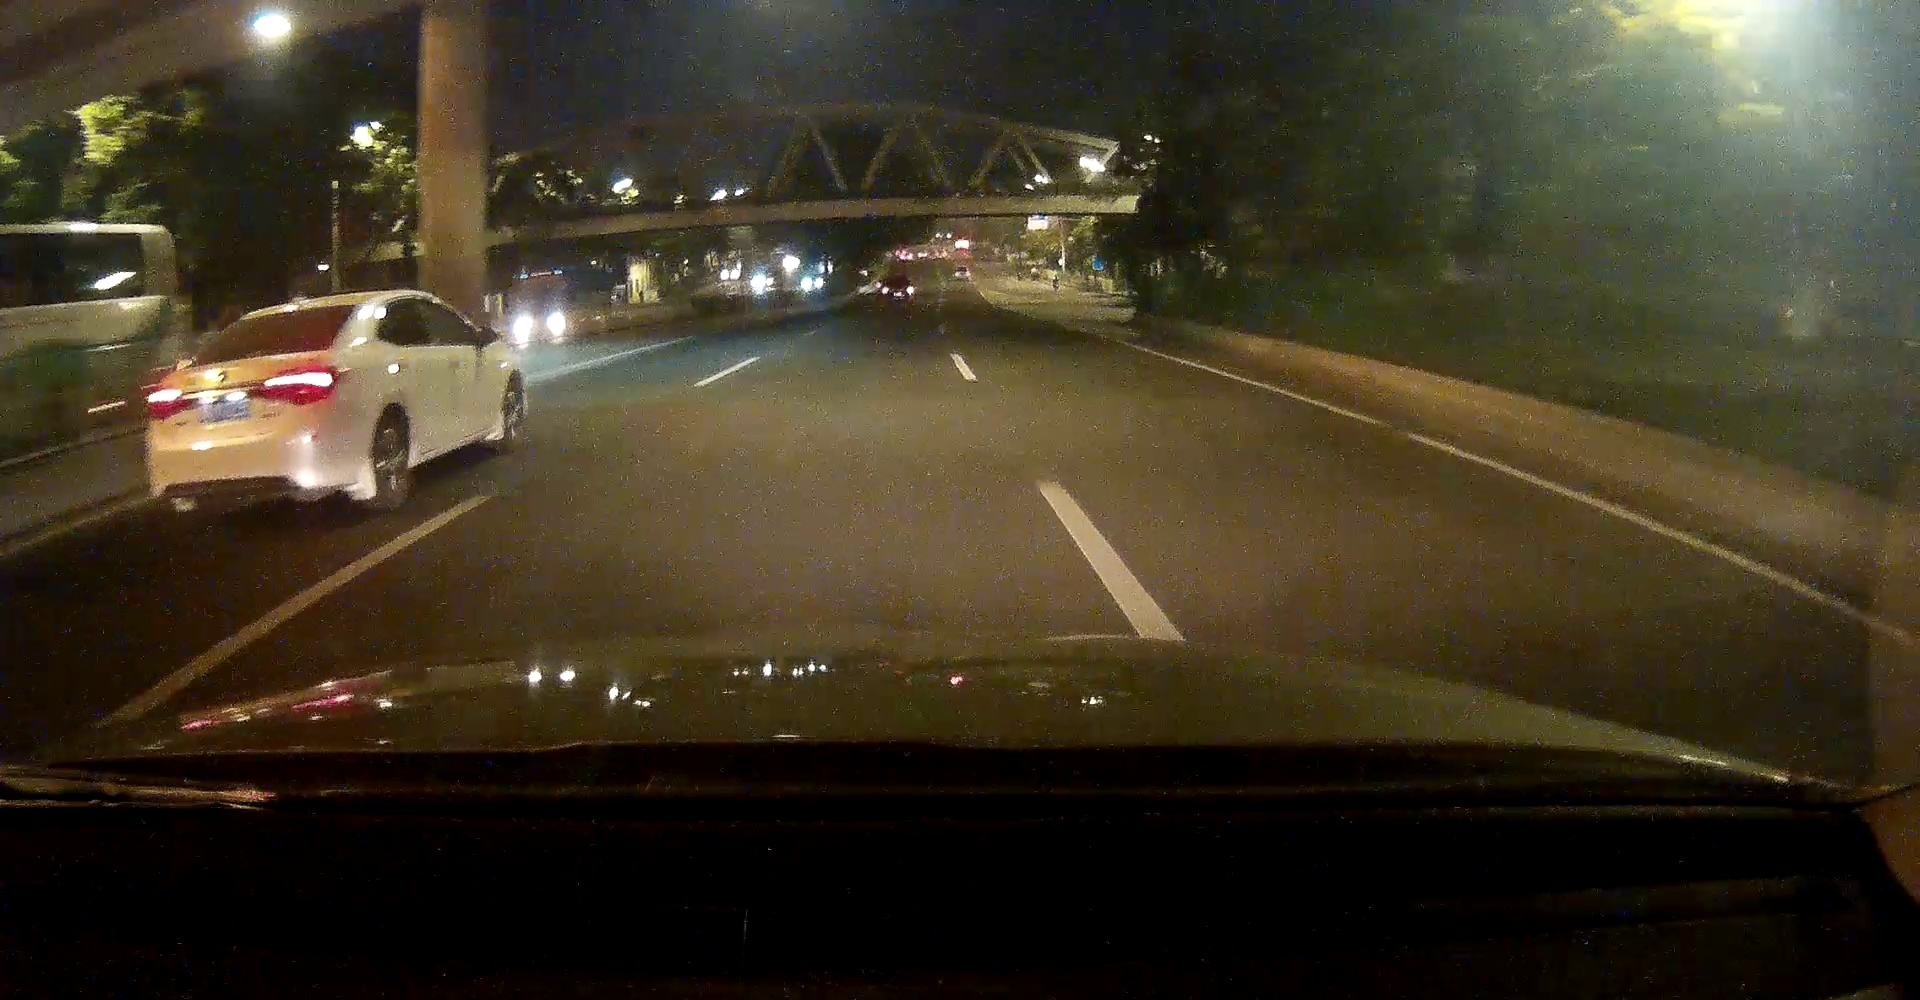L_light: (143, 387, 199, 419)
R_light: (258, 365, 342, 406)
T_light: (269, 310, 302, 319)
night-no: (145, 292, 362, 527)
